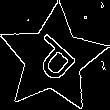P_SE: (23, 28, 83, 89)
